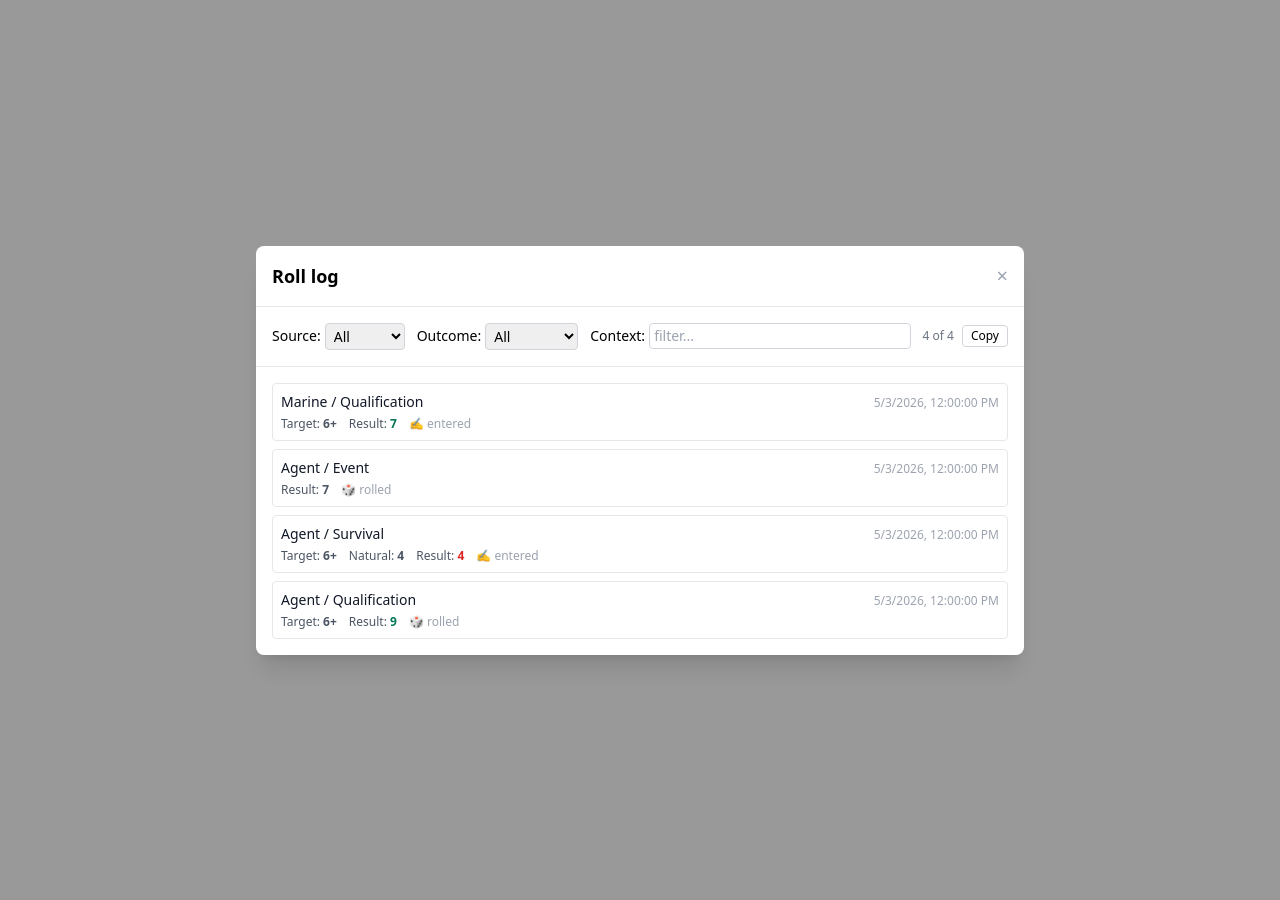
it: RollLogViewer › filters by source: manual
This screenshot has width=1280, height=900.
Select "Manual" in the dropdown named "Source filter" at (365, 336), box [325,322,405,350]
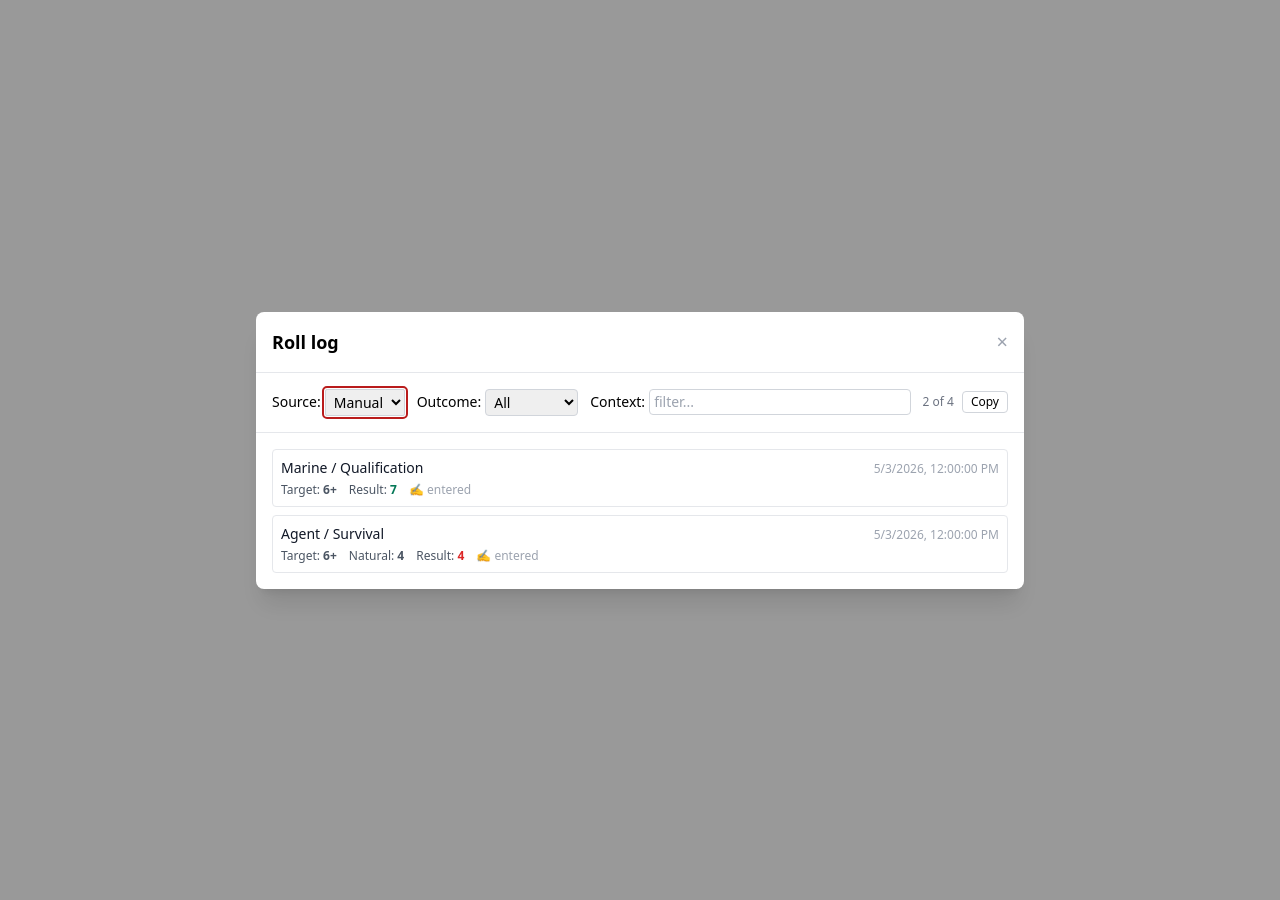
Expected: the text "Agent / Survival" is shown, [281,524,384,544]
Expected: the text "Agent / Qualification" is gone
